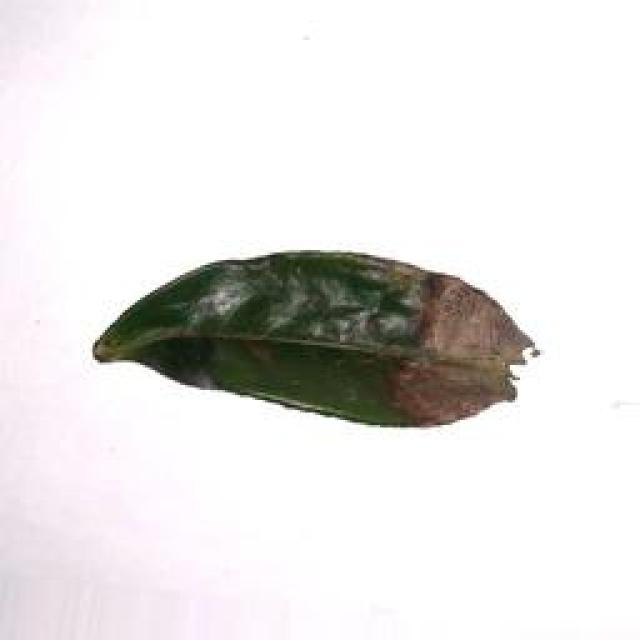Brown Blight: (58, 243, 561, 439)
